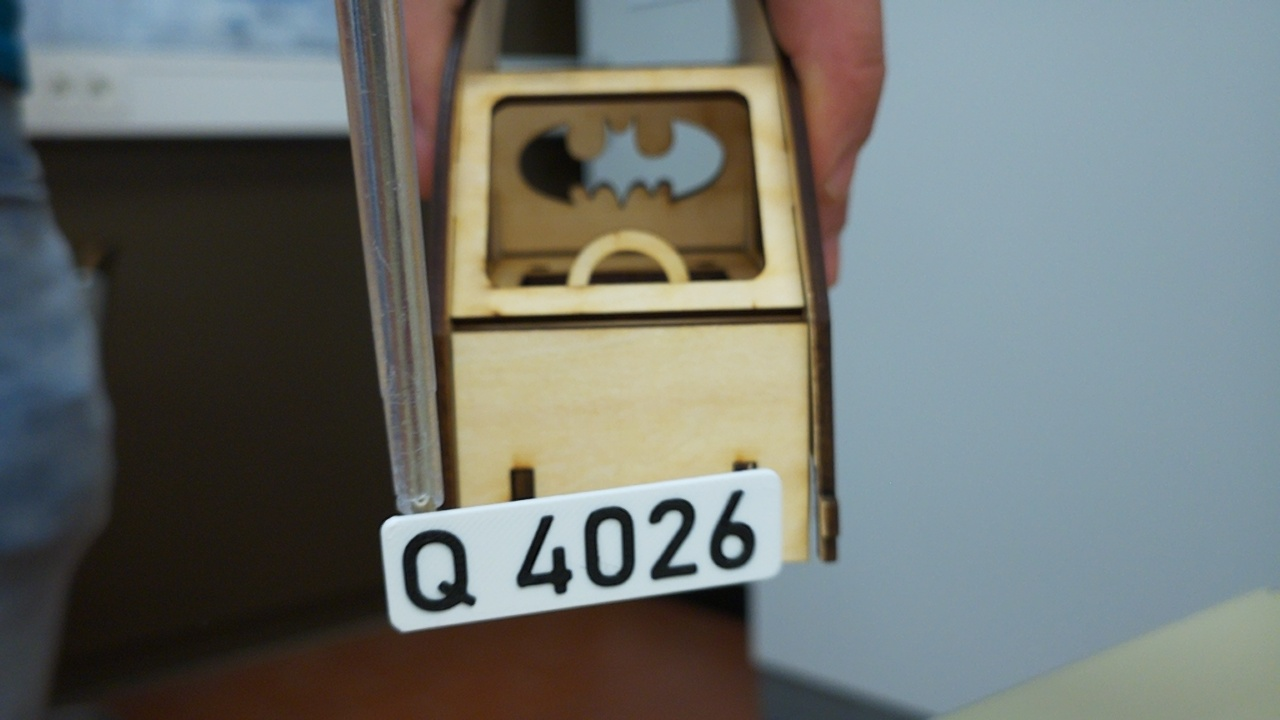license_plate: (378, 466, 788, 636)
